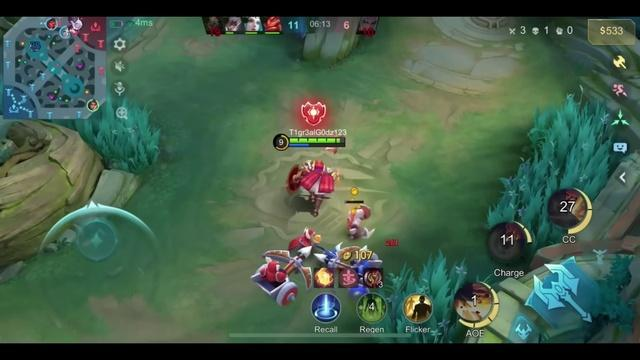Adc_Aliado: (46, 19, 59, 33)
Adc_Enemigo: (70, 16, 79, 25)
Arbusto: (487, 94, 619, 252), (364, 250, 467, 342), (70, 98, 160, 174)
Esbirro_Aliado: (251, 244, 314, 305), (346, 204, 373, 238), (288, 228, 315, 252)
Exp_Aliado: (88, 99, 99, 111)
HP_Heroe_Principal: (291, 138, 346, 143)
Hechizo_Batalla: (403, 294, 432, 323)
Mana: (290, 144, 345, 147)
Mid_Aliado: (59, 27, 70, 39)
Mid_Enemigo: (68, 25, 79, 36)
Minimapa: (4, 16, 107, 119)
Roamer_Enemigo: (72, 20, 83, 31)
Tigreal: (286, 160, 339, 215)
